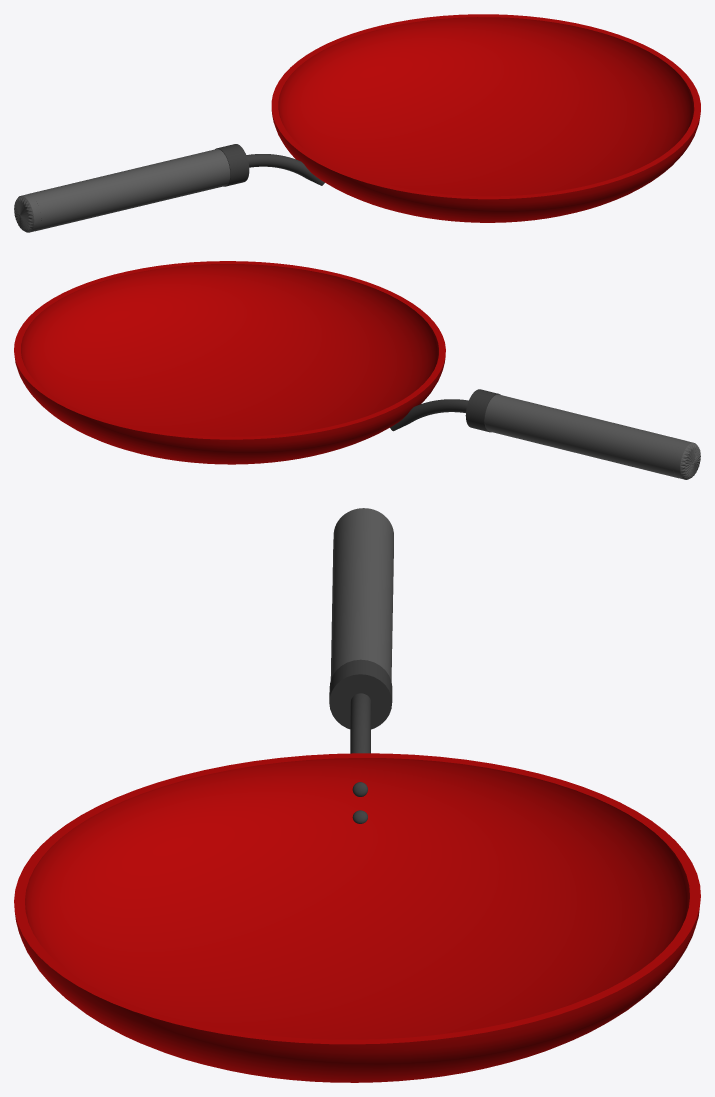
File: pan.dae
3 renders of one model, top to bottom at view 1: azimuth 30°, elevation 25°; view 2: azimuth 150°, elevation 25°; view 3: azimuth 270°, elevation 25°, orthographic. The views are drawn at different scales.
Visible parts, largest first — view 1: instance_1; view 2: instance_1; view 3: instance_1.
Part boxes in pixels (<box>): instance_1: <box>14,14,700,232</box>; instance_1: <box>14,261,700,479</box>; instance_1: <box>14,508,700,1082</box>.
Size of the model in its own units: 5368 by 3072 by 720.
